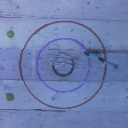Axe Tip: (88, 50, 101, 54)
